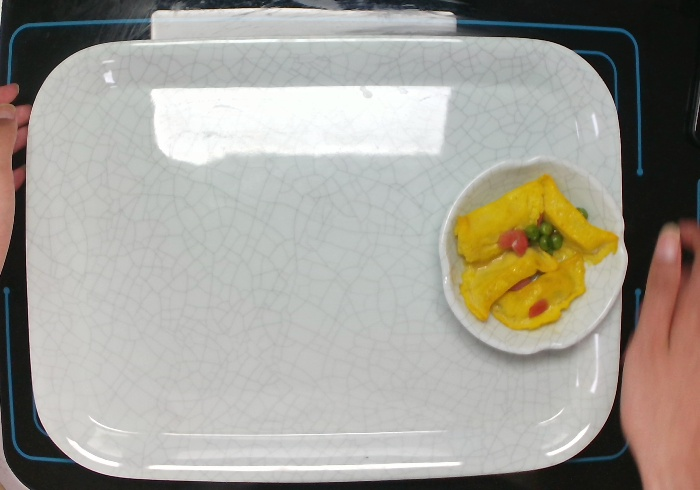JYsf-Ao_Yuan_Wan: (436, 153, 630, 356)
